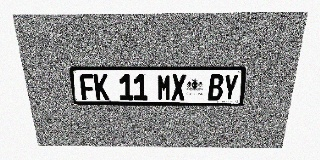1: (118, 74, 133, 100), (133, 74, 147, 100)
B: (208, 74, 224, 101)
F: (79, 74, 95, 100)
K: (93, 74, 109, 100)
M: (157, 74, 171, 100)
X: (171, 74, 186, 100)
Y: (222, 74, 239, 101)
